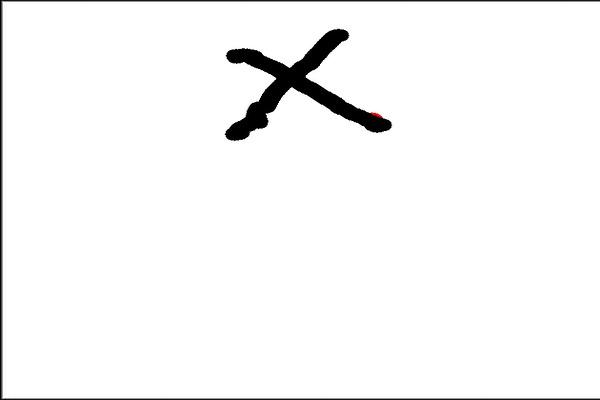X: (202, 13, 419, 162)
